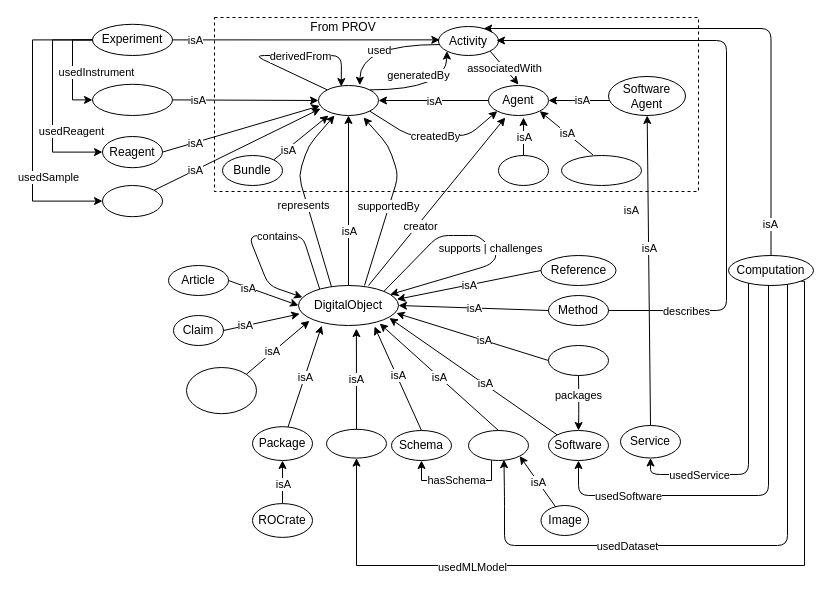
Some shapes in this 831 by 591 pixel diagram are drawn without their labels. The centre of each missing label's shape, as x and y in pixels:
Container: (x=578, y=360)
Dataset: (x=498, y=445)
Entity: (x=348, y=100)
Evidence Graph: (x=221, y=390)
Instrument: (x=132, y=99)
MLModel: (x=356, y=443)
Organization: (x=601, y=170)
Person: (x=523, y=170)
Sample: (x=132, y=200)
